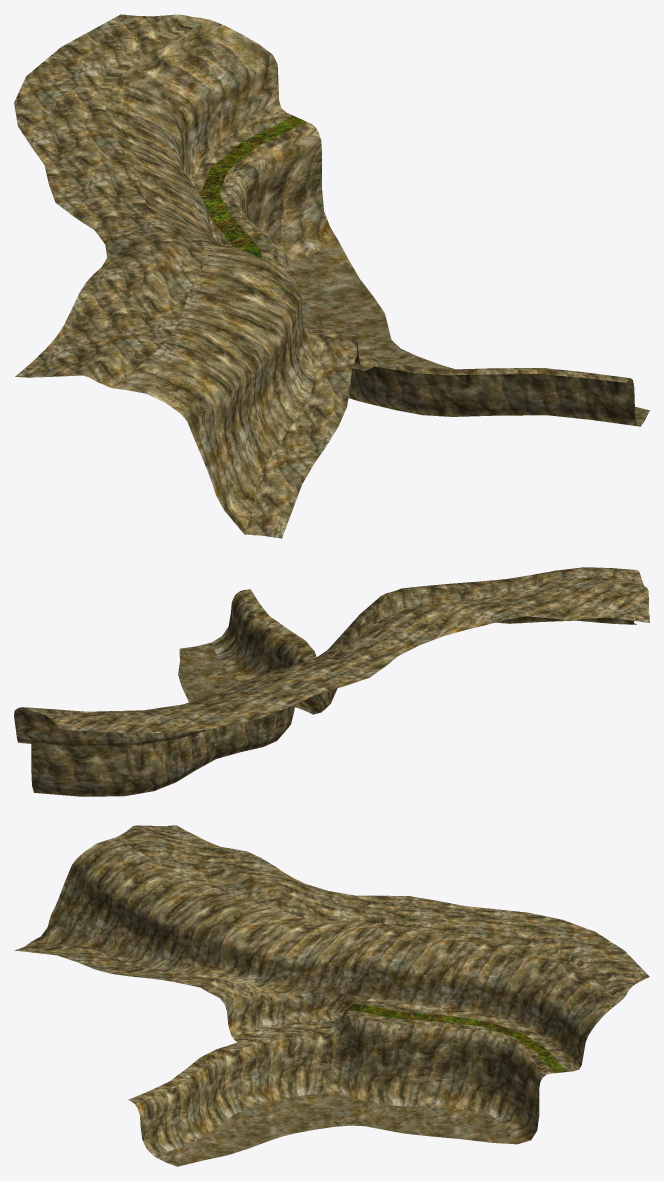
The model's file is RM_PLAYSURFACE_FINAL_OBJECT08.fbx.
3 views of the same model, one above another, from view 1: azimuth 30°, elevation 25°; view 2: azimuth 150°, elevation 25°; view 3: azimuth 270°, elevation 25° (orthographic). The views are drawn at different scales.
Parts seen in each view (by area): view 1: RM_PLAYSURFACE_FINAL_OBJECT08; view 2: RM_PLAYSURFACE_FINAL_OBJECT08; view 3: RM_PLAYSURFACE_FINAL_OBJECT08.
Boxes of the visible parts, x1,y1,x2,y2 form: RM_PLAYSURFACE_FINAL_OBJECT08: [14, 14, 649, 538]; RM_PLAYSURFACE_FINAL_OBJECT08: [14, 567, 649, 796]; RM_PLAYSURFACE_FINAL_OBJECT08: [14, 825, 649, 1166].
Size of the model in its own units: 378662 by 119636 by 479344.
Materials: 5 (5 with a texture image).
